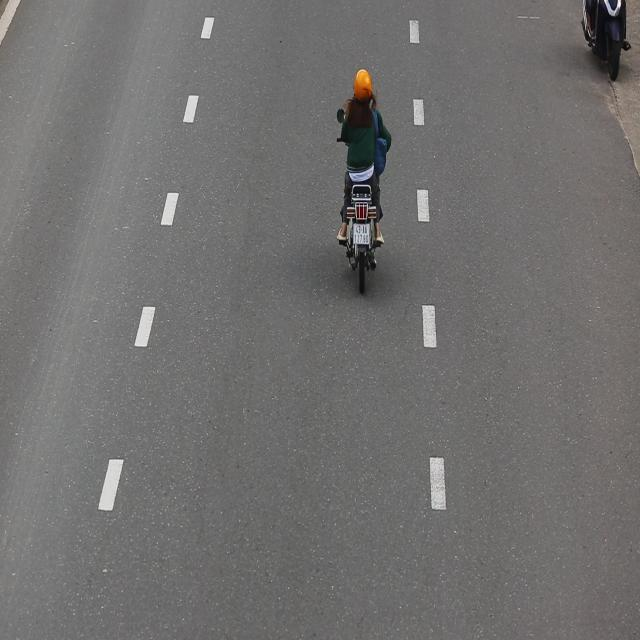motorbike: (330, 58, 392, 296)
